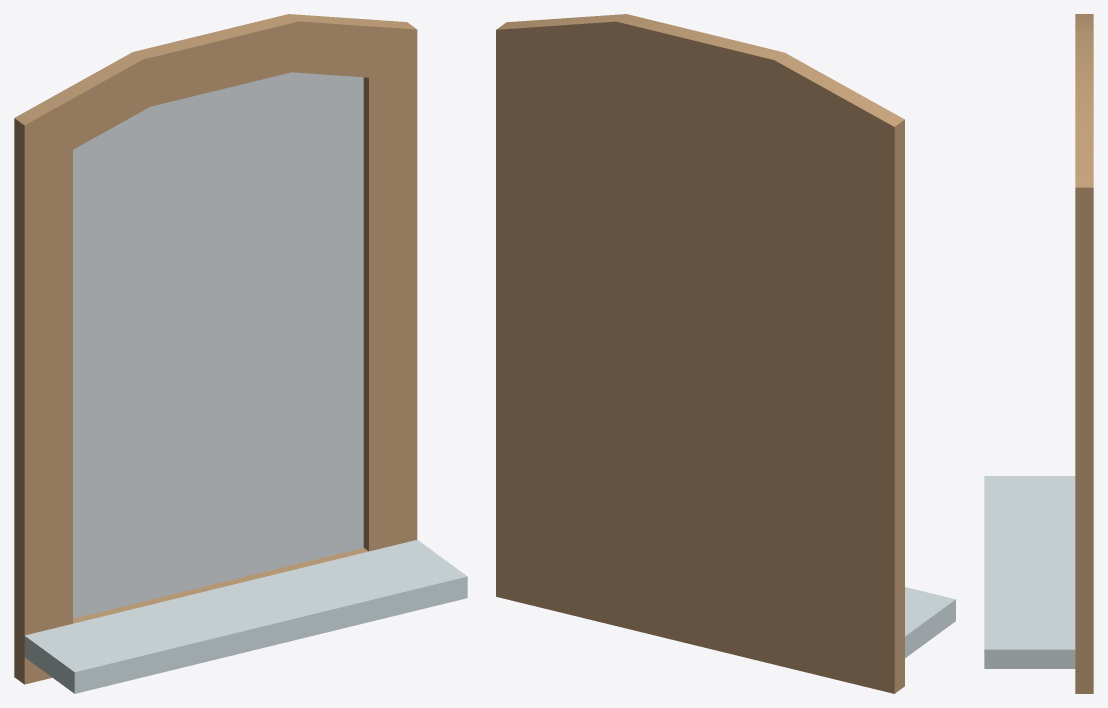
File: bathroom-mirror.glb
3 renders of one model, left to right at view 1: azimuth 30°, elevation 25°; view 2: azimuth 150°, elevation 25°; view 3: azimuth 270°, elevation 25°, orthographic. The views are drawn at different scales.
Visible parts, largest first — view 1: bathroom-mirror; view 2: bathroom-mirror; view 3: bathroom-mirror.
Boxes of the visible parts, <box> form: bathroom-mirror: <box>14,14,467,693</box>; bathroom-mirror: <box>496,14,955,693</box>; bathroom-mirror: <box>984,14,1093,693</box>.
Bounding box in the file's own units: 0.6 × 0.87 × 0.16.
